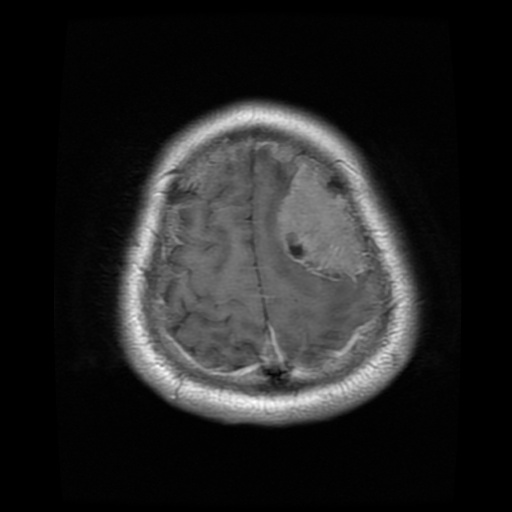meningioma: (275, 155, 372, 279)
